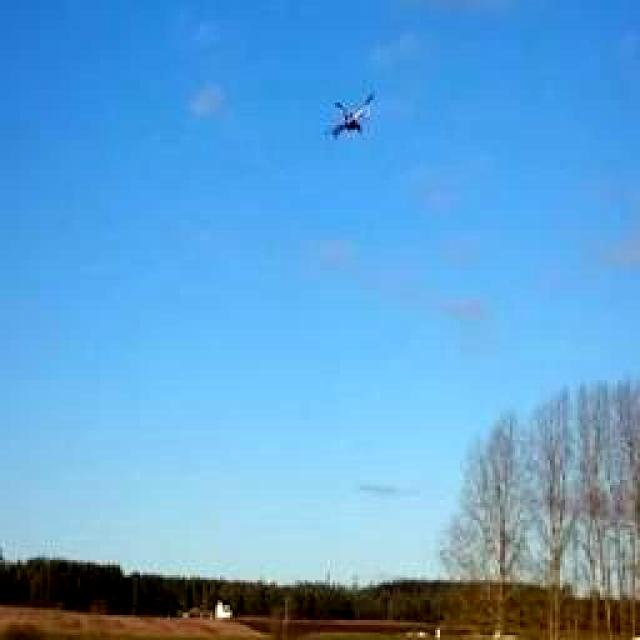bird: (314, 80, 396, 148)
